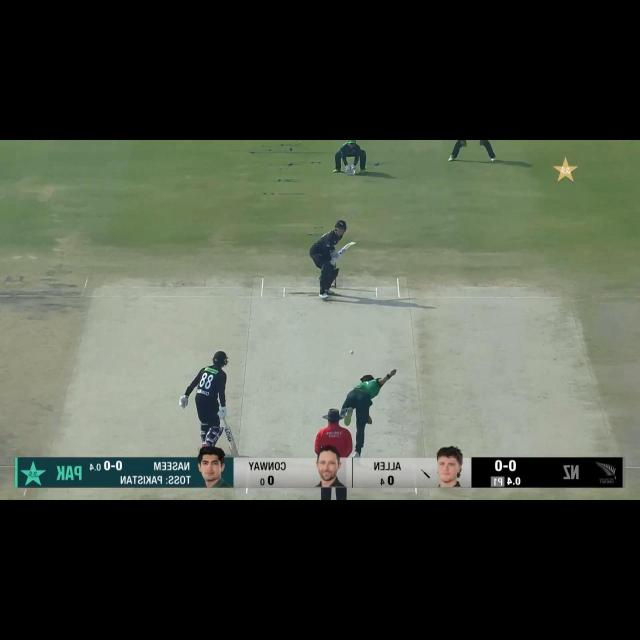bat: (223, 428, 242, 458), (335, 240, 357, 255)
toe: (230, 448, 241, 458), (348, 240, 356, 247)
